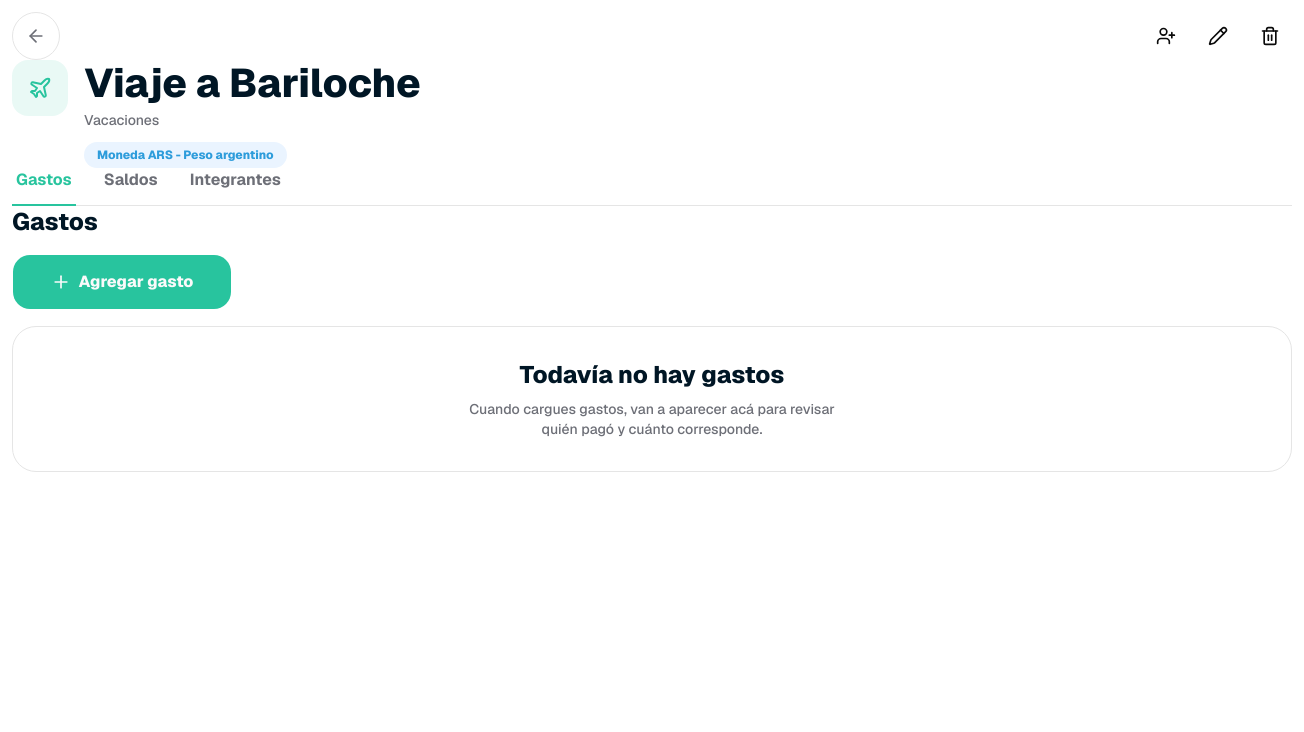
Test case: EventDetailView › permite navegar entre Gastos, Saldos e Integrantes
expect the heading "Todavía no hay gastos" is shown: met, box [520, 359, 784, 390]
Click the tab "Saldos" at (131, 187), box [100, 168, 162, 206]
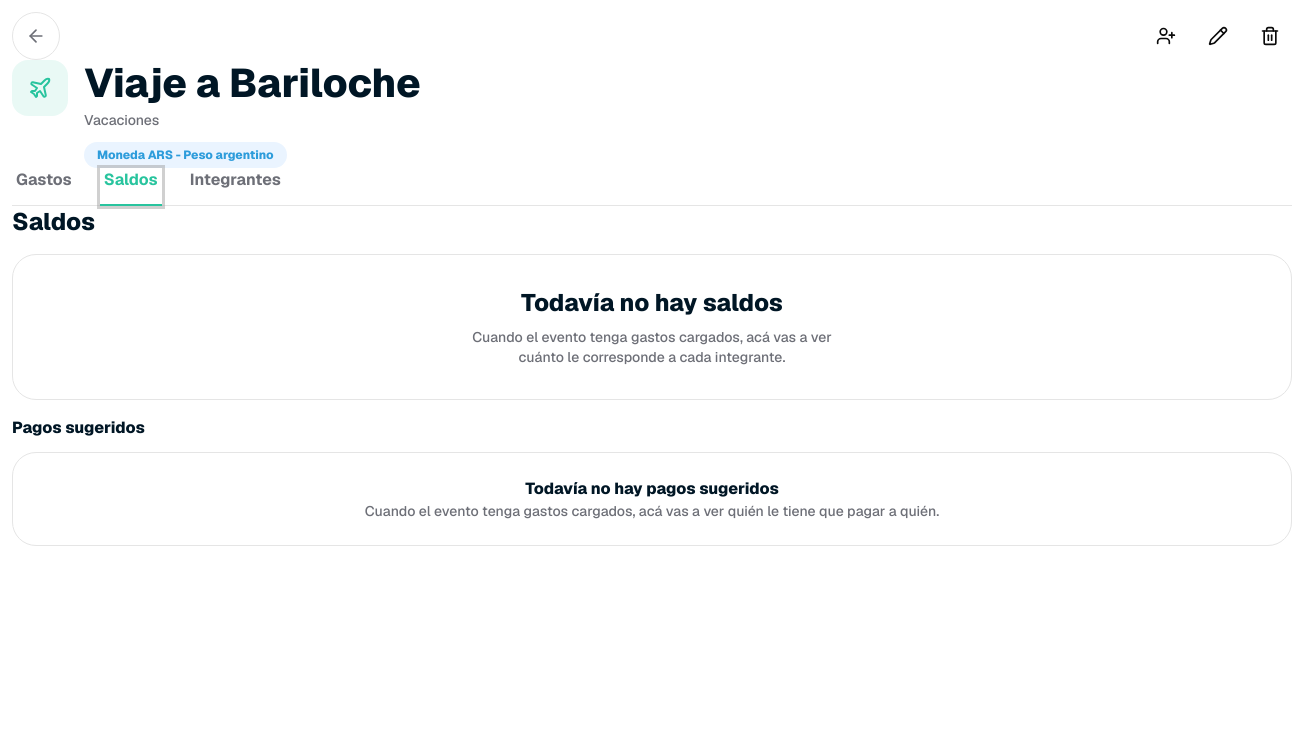
expect the heading "Todavía no hay saldos" is shown: met, box [521, 287, 783, 318]
Click the tab "Integrantes" at (235, 187), box [186, 168, 285, 206]
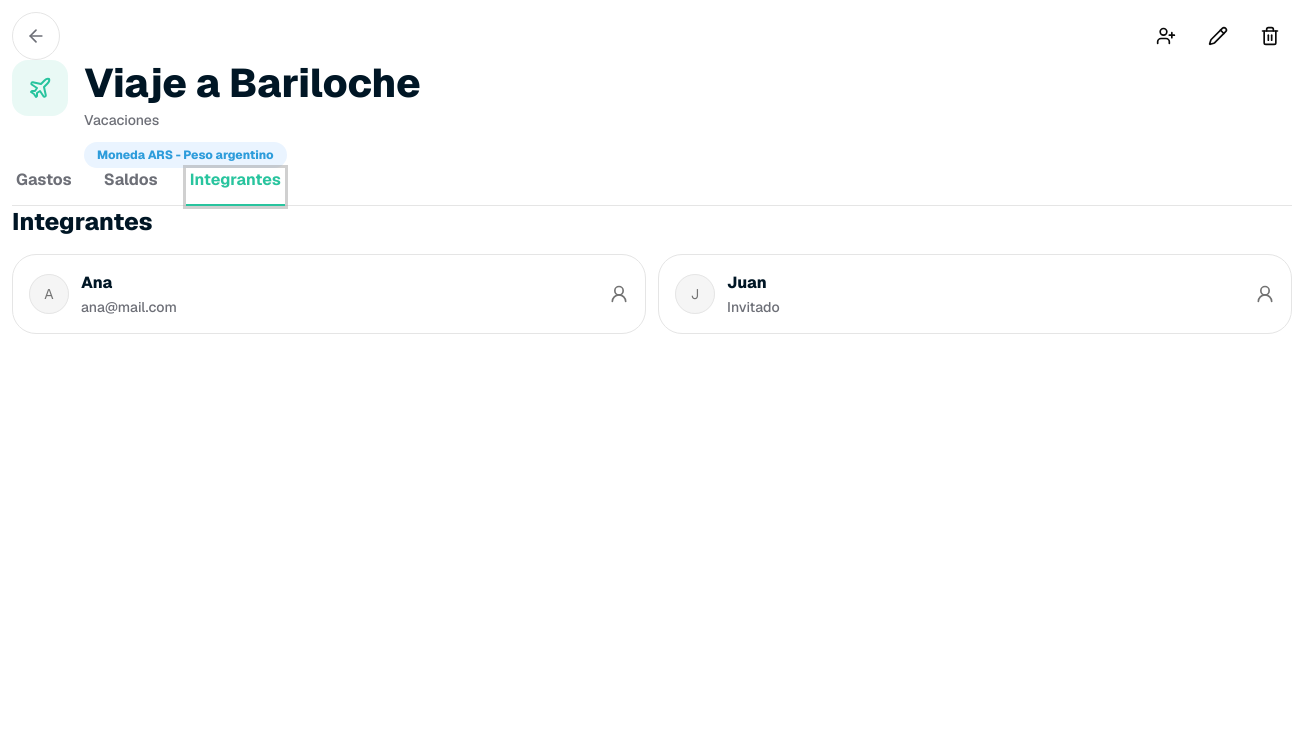
expect the heading "Integrantes" is shown: met, box [12, 206, 153, 237]
